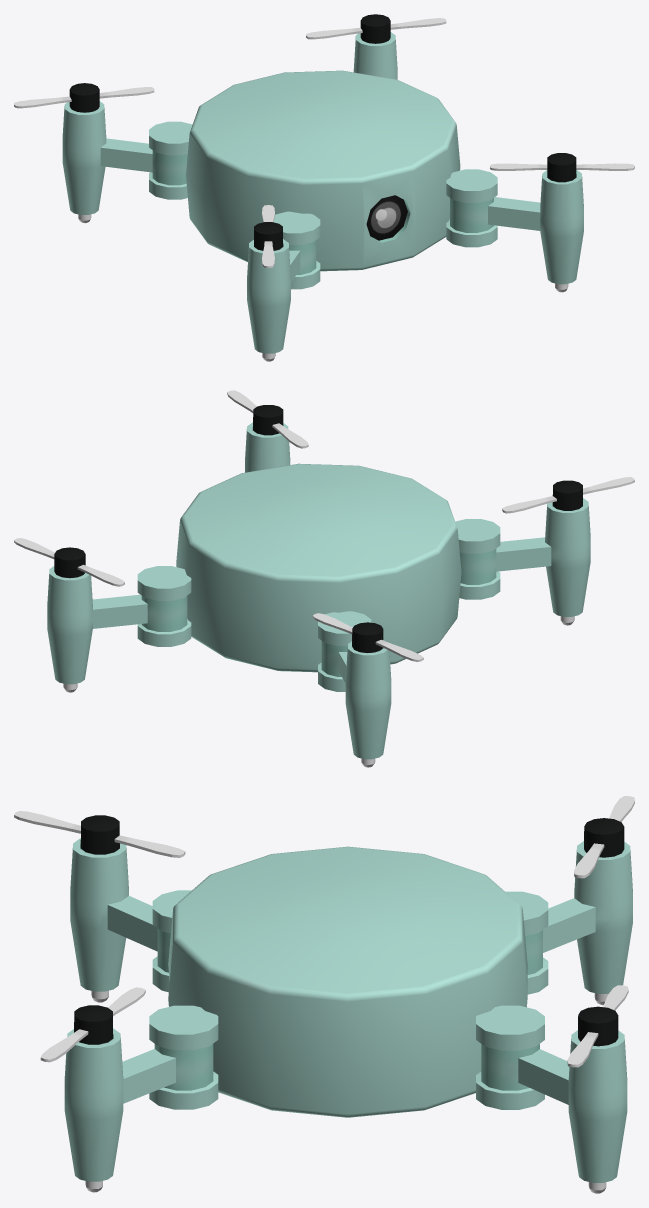
File: pvb export drone 03.fbx
3 renders of one model, top to bottom at view 1: azimuth 30°, elevation 25°; view 2: azimuth 150°, elevation 25°; view 3: azimuth 270°, elevation 25°, orthographic. The views are drawn at different scales.
Visible parts, largest first — view 1: body, leg_base (×4), propellor (×4); view 2: body, leg_base (×4), propellor (×4); view 3: body, leg_base (×4), propellor (×4).
Part boxes in pixels (x1=…): body: x1=186, y1=70, x2=460, y2=271; leg_base (×4): x1=62, y1=32, x2=583, y2=353; propellor (×4): x1=14, y1=14, x2=634, y2=268; body: x1=176, y1=463, x2=461, y2=672; leg_base (×4): x1=47, y1=422, x2=590, y2=759; propellor (×4): x1=14, y1=390, x2=634, y2=661; body: x1=168, y1=846, x2=527, y2=1117; leg_base (×4): x1=64, y1=838, x2=632, y2=1182; propellor (×4): x1=14, y1=796, x2=634, y2=1067.
Size of the model in its own units: 18.52 by 6.12 by 18.09.
Materials: 1 (1 with a texture image).
